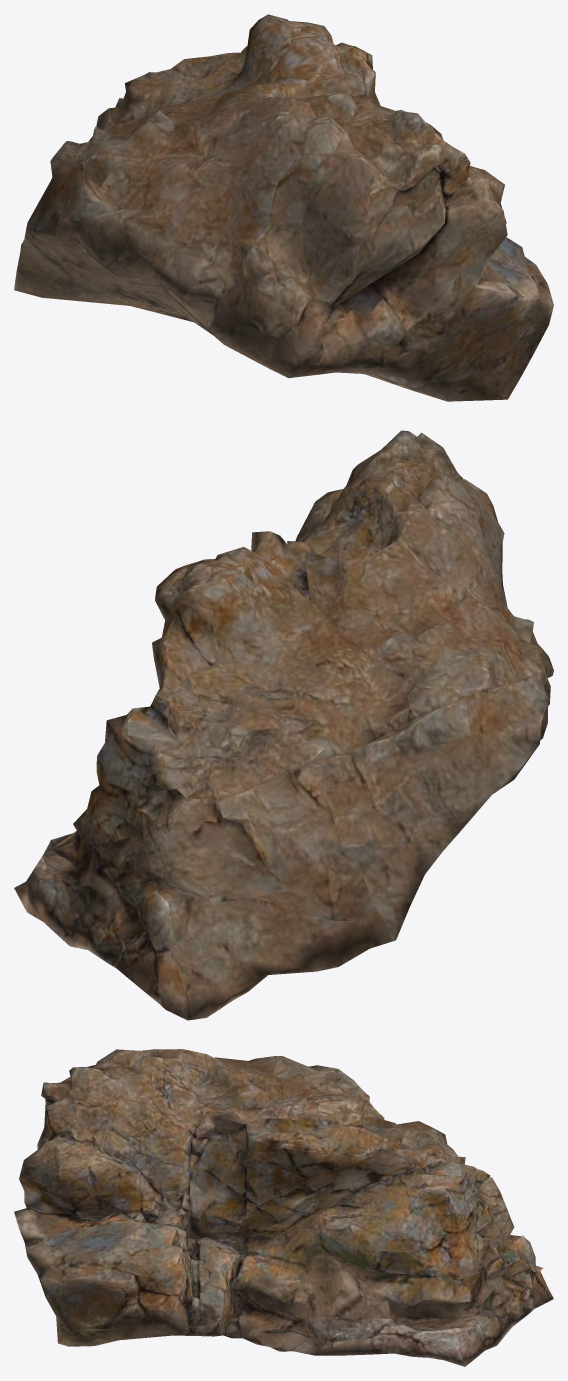
The model's file is boulder_01_lo.gltf.
The picture shows the model from 3 angles, top to bottom: view 1: azimuth 30°, elevation 25°; view 2: azimuth 150°, elevation 25°; view 3: azimuth 270°, elevation 25°; orthographic projection. The views are drawn at different scales.
Parts seen in each view (by area): view 1: boulder_01; view 2: boulder_01; view 3: boulder_01.
Part boxes in pixels (box(x1,y1,x2,y2)): boulder_01: box(14, 14, 553, 401); boulder_01: box(14, 430, 553, 1020); boulder_01: box(14, 1049, 553, 1366).
Size of the model in its own units: 1.27 by 0.9981 by 1.83.
1 material, 1 textured.
